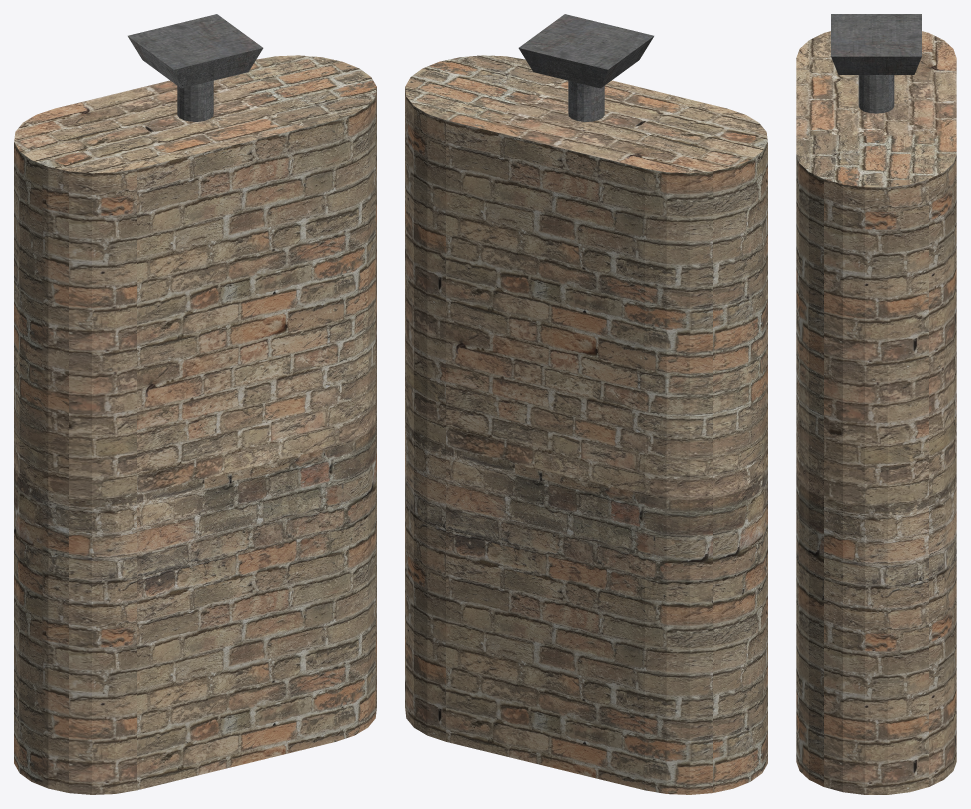
Rendered from bridge_pillar_brick.obj.
3 views of the same model, side by side, from view 1: azimuth 30°, elevation 25°; view 2: azimuth 150°, elevation 25°; view 3: azimuth 270°, elevation 25° (orthographic). The views are drawn at different scales.
Visible parts, largest first — view 1: bridge_pillar_brick; view 2: bridge_pillar_brick; view 3: bridge_pillar_brick.
Part boxes in pixels (bbox=[...]): bridge_pillar_brick: bbox=[14, 14, 376, 794]; bridge_pillar_brick: bbox=[405, 14, 767, 794]; bridge_pillar_brick: bbox=[796, 14, 956, 794].
Bounding box in the file's own units: 3 × 5.85 × 1.26.
Materials: 1 (1 with a texture image).
